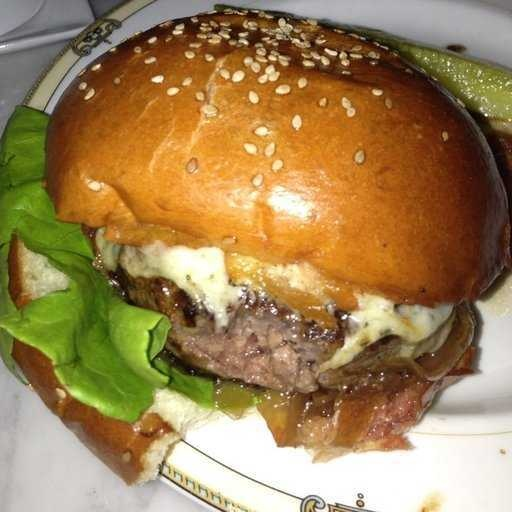hamburger: (42, 25, 504, 387)
